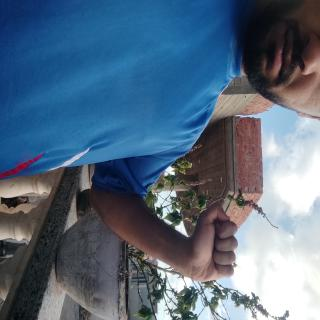SAD: (152, 106, 217, 186)
